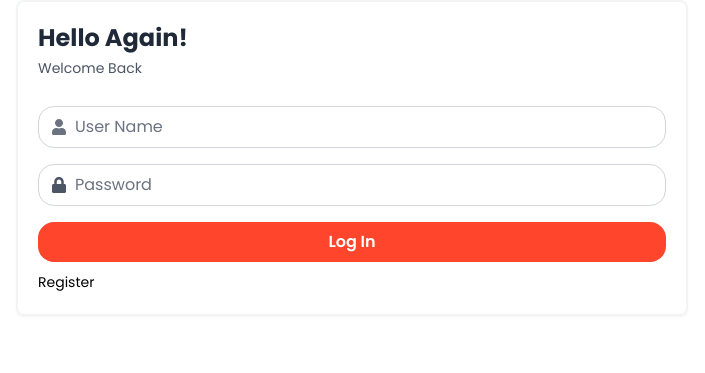
Test: Login › should verify that all fields are required
Click the button "Log In". click: point(352, 242)
box: [38,222,666,262]
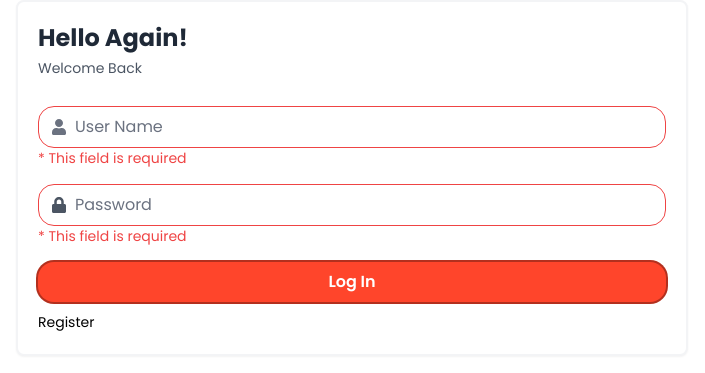
Expected: the text "* This field is required" is shown 2 times, [38,148,187,168]; [38,226,187,246]
